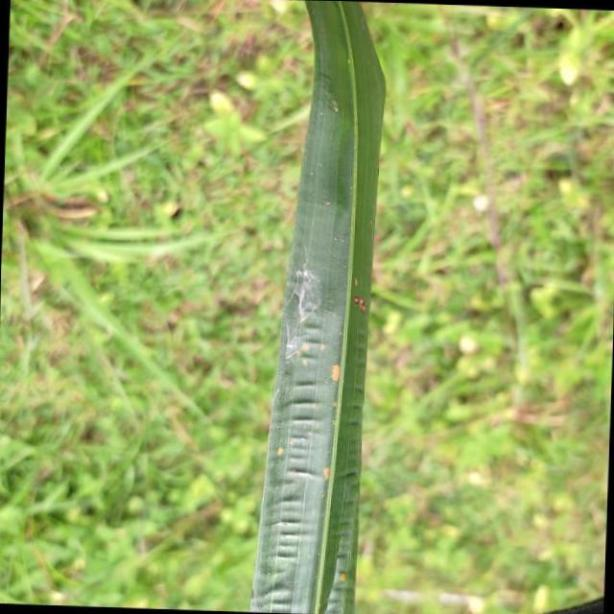Boron: (248, 5, 385, 614)
